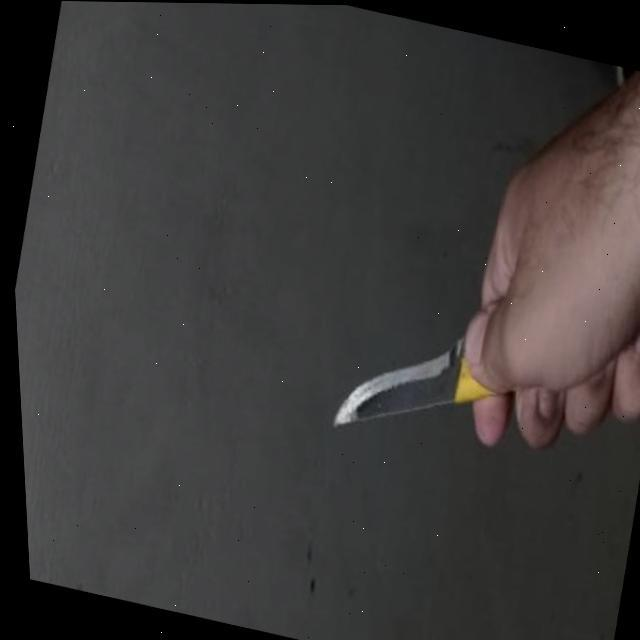knife: (324, 308, 506, 458)
